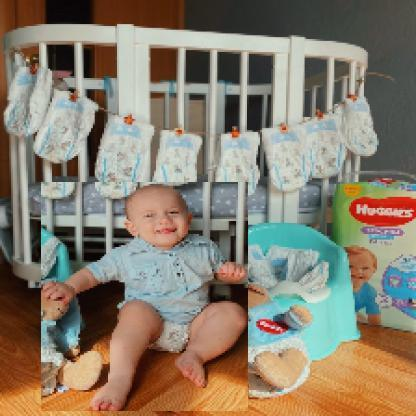child: (42, 183, 250, 413)
